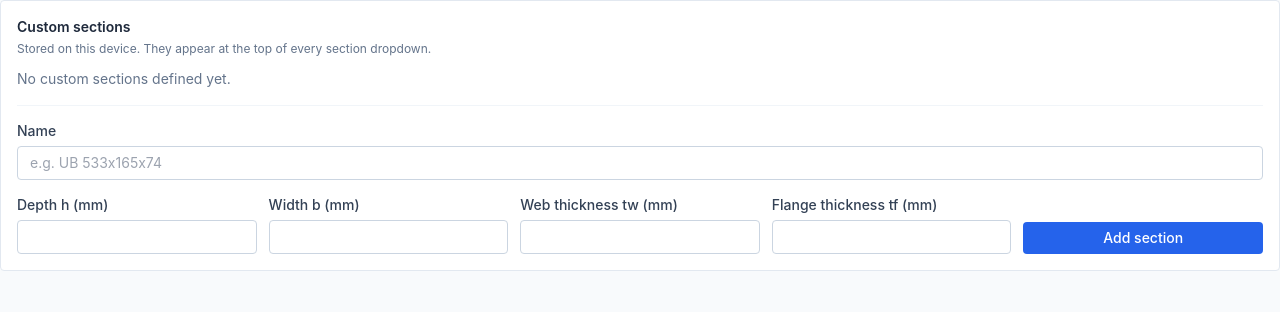
CustomSectionsPanel › surfaces a failed add instead of silently swallowing it
Check: the text "No custom sections defined yet." is shown, box top-left (17, 70), bottom-right (231, 87)
Type "UB 533x165x74" into the field labelled "Name" at point(640, 163), box top-left (17, 146), bottom-right (1263, 180)
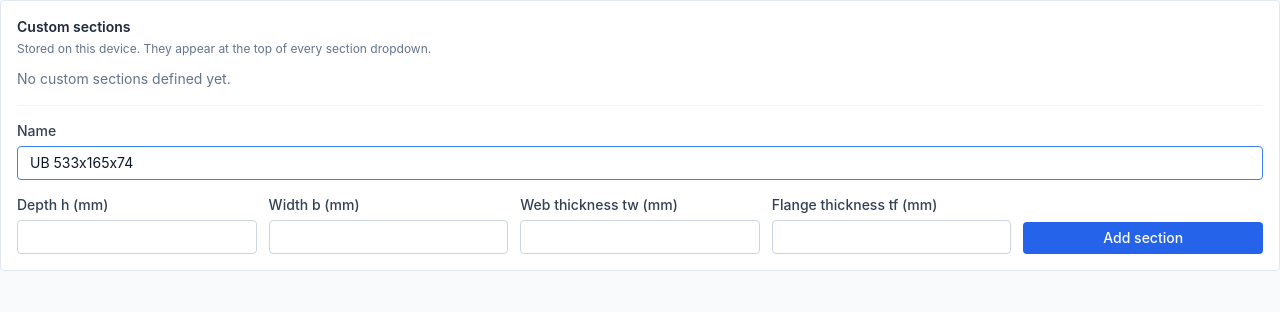
Type "529.1" into the number field labelled "Depth h (mm)" at point(137, 237), box top-left (17, 220), bottom-right (257, 254)
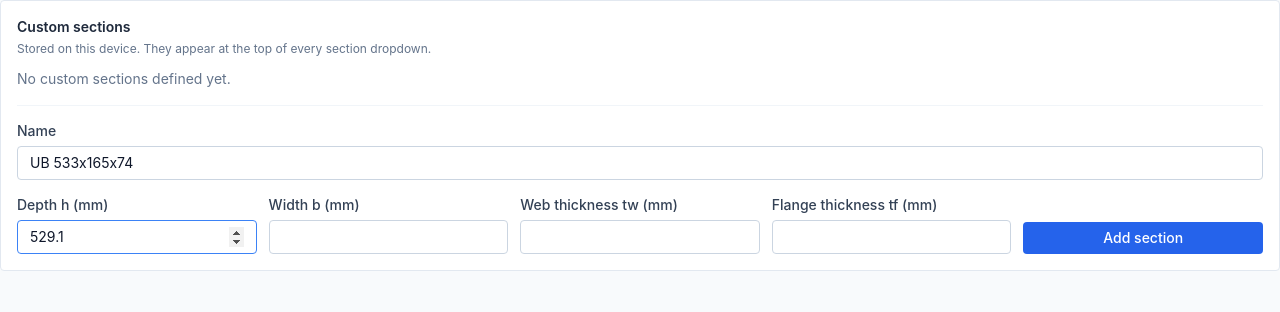
Type "165.9" into the number field labelled "Width b (mm)" at point(388, 237), box top-left (269, 220), bottom-right (508, 254)
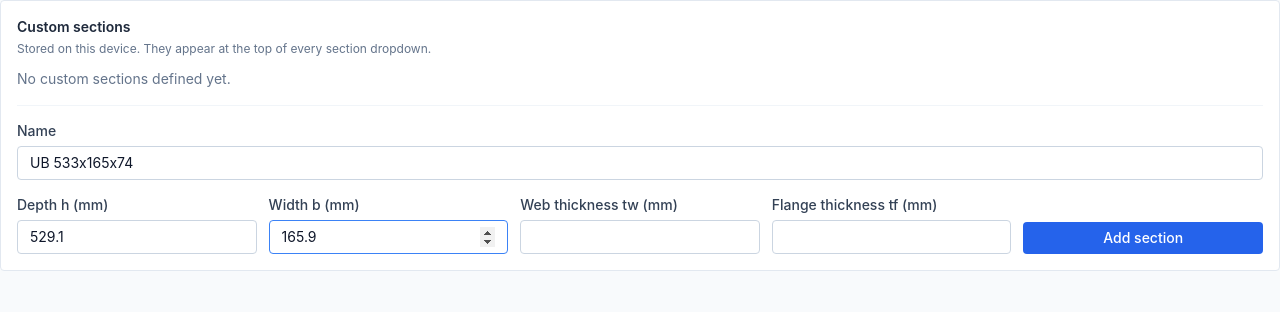
Type "9.7" into the number field labelled "Web thickness tw (mm)" at point(640, 237), box top-left (520, 220), bottom-right (760, 254)
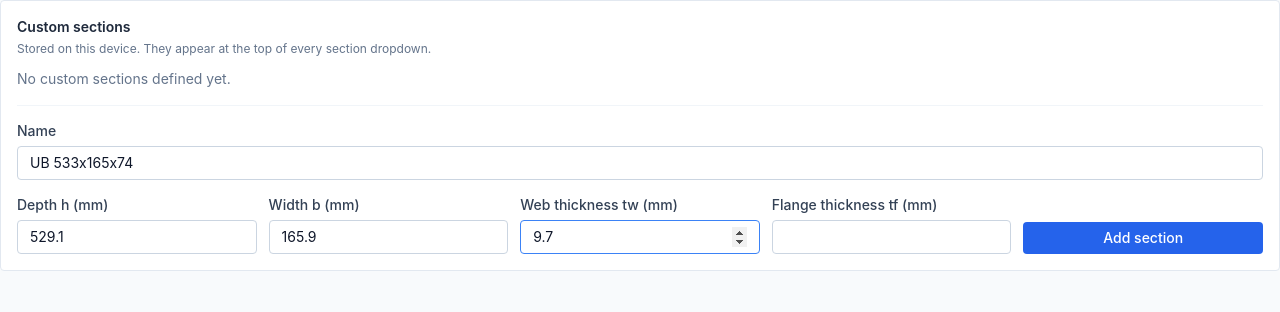
Type "13.6" into the number field labelled "Flange thickness tf (mm)" at point(892, 237), box top-left (772, 220), bottom-right (1011, 254)
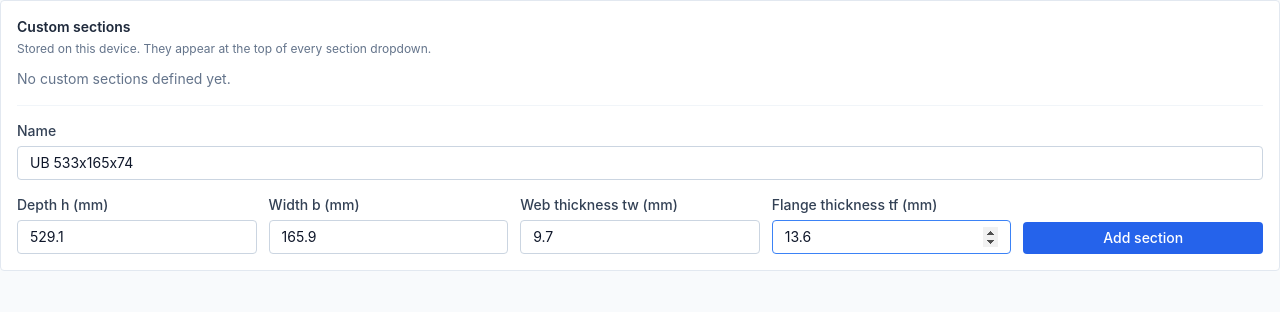
Click the button "Add section" at point(1143, 238), box top-left (1023, 222), bottom-right (1263, 254)
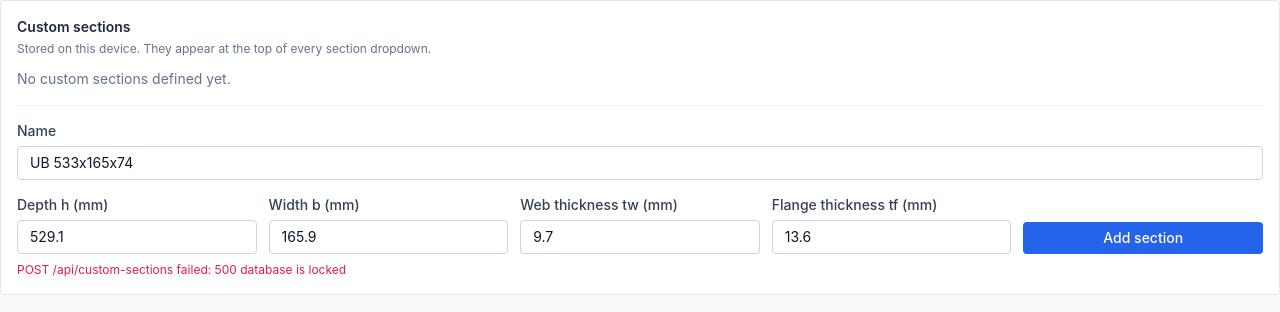
Check: the text "POST /api/custom-sections failed: 500 database is locked" is shown, box top-left (17, 262), bottom-right (346, 277)
